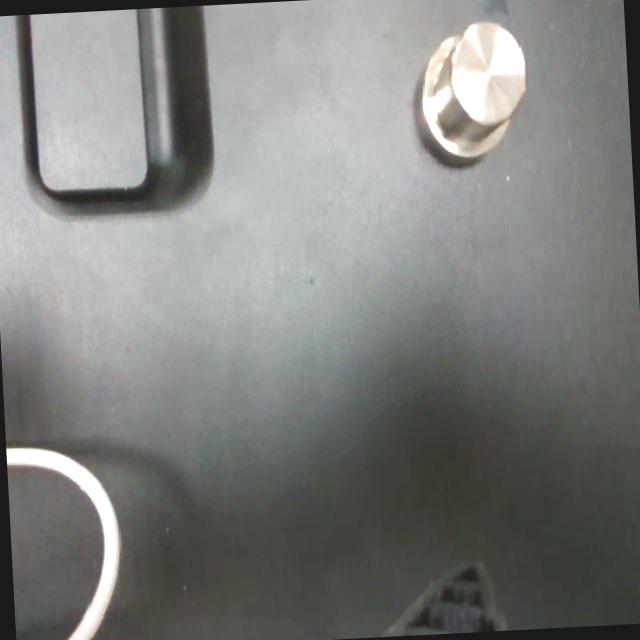sensor: (415, 16, 532, 162)
